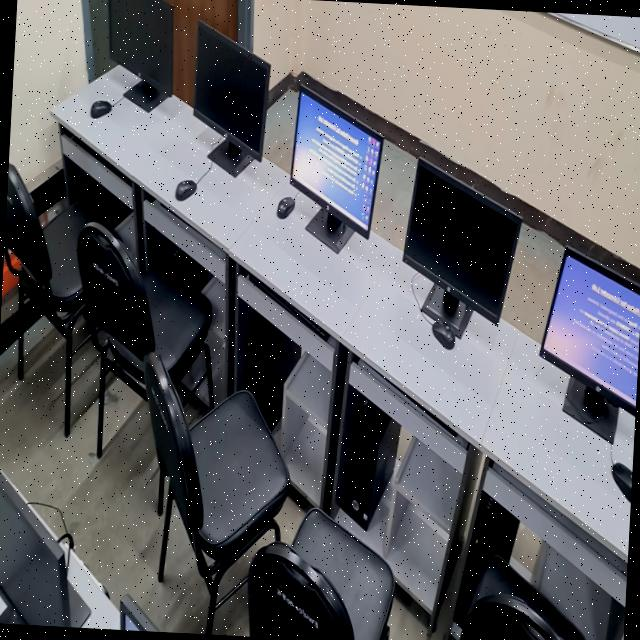Chair: (143, 354, 284, 546), (75, 218, 198, 378), (262, 507, 396, 640), (0, 152, 90, 318), (461, 561, 592, 640)
Cpu: (334, 412, 401, 528), (238, 323, 292, 392), (474, 499, 516, 563)
Monitor: (401, 156, 518, 318), (538, 238, 640, 420), (290, 87, 380, 255), (188, 23, 276, 182), (0, 454, 72, 627), (101, 0, 182, 112), (116, 590, 178, 633)
Mouse: (608, 454, 633, 508), (428, 316, 458, 356), (171, 168, 202, 205), (86, 93, 114, 123), (274, 190, 296, 222)
